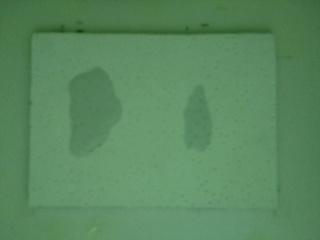Water_detected: (76, 77, 116, 148), (180, 101, 218, 141)
